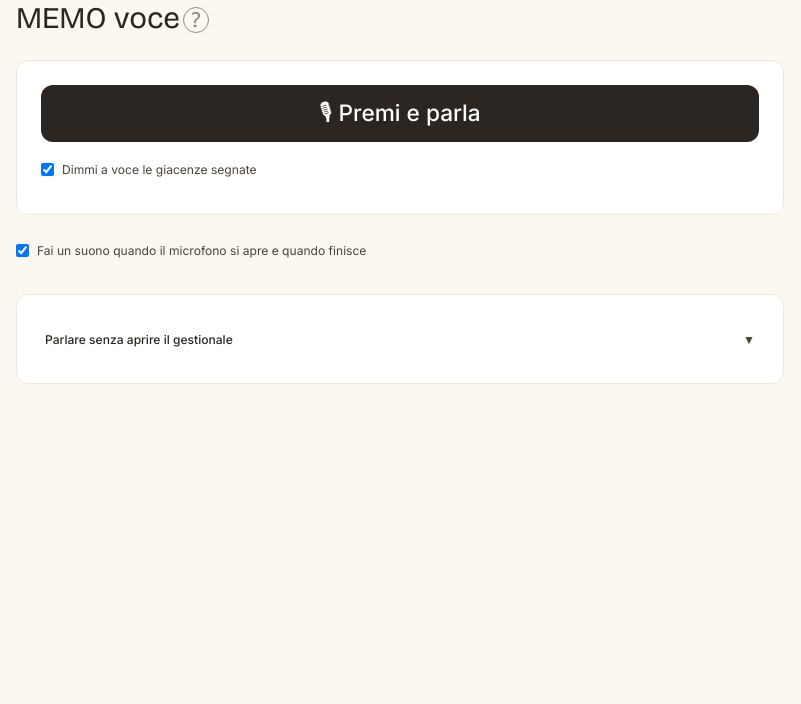
Test: 🔴 la scheda dell'appunto appena detto compare subito › NON approvabile: la scheda si vede lo stesso, col suo perché
Step 1. Click the button "🎙 Premi e parla" → (400, 114), box [41,85,759,142]
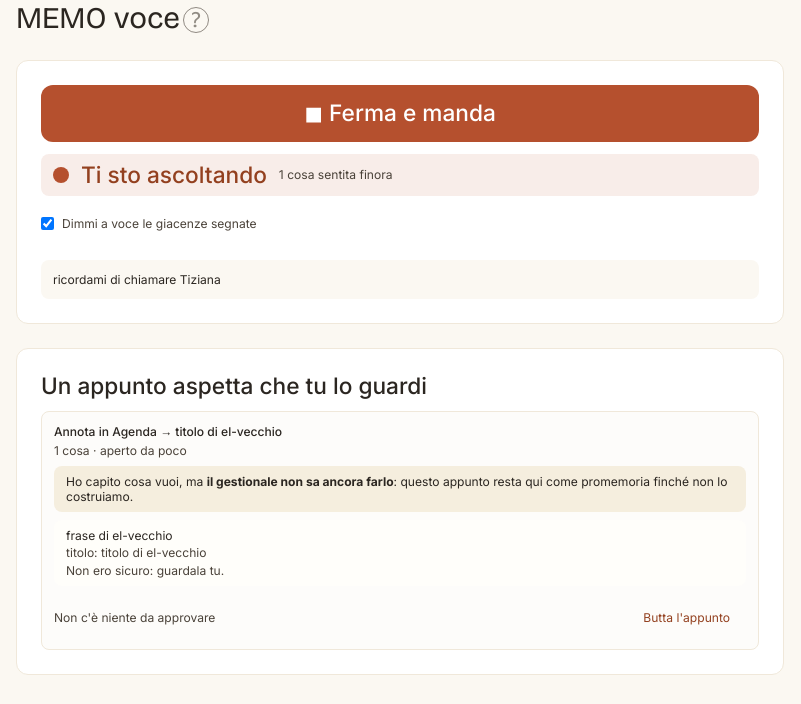
Step 2. Click the button "◼ Ferma e manda" → (400, 114), box [41,85,759,142]
(page scrolled)
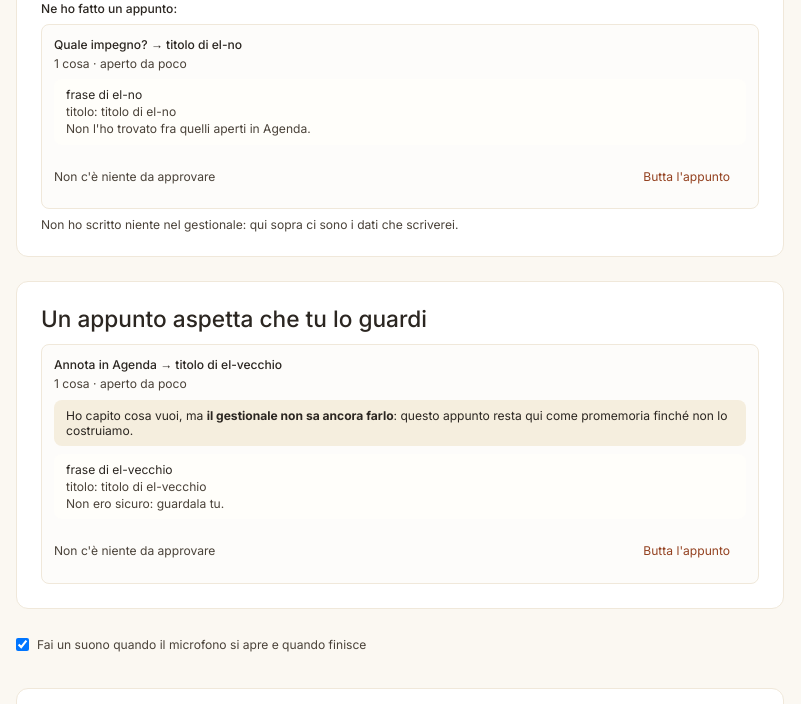
Expected: the text "Non l'ho trovato fra quelli aperti in Agenda." is shown, [66,121,311,136]
